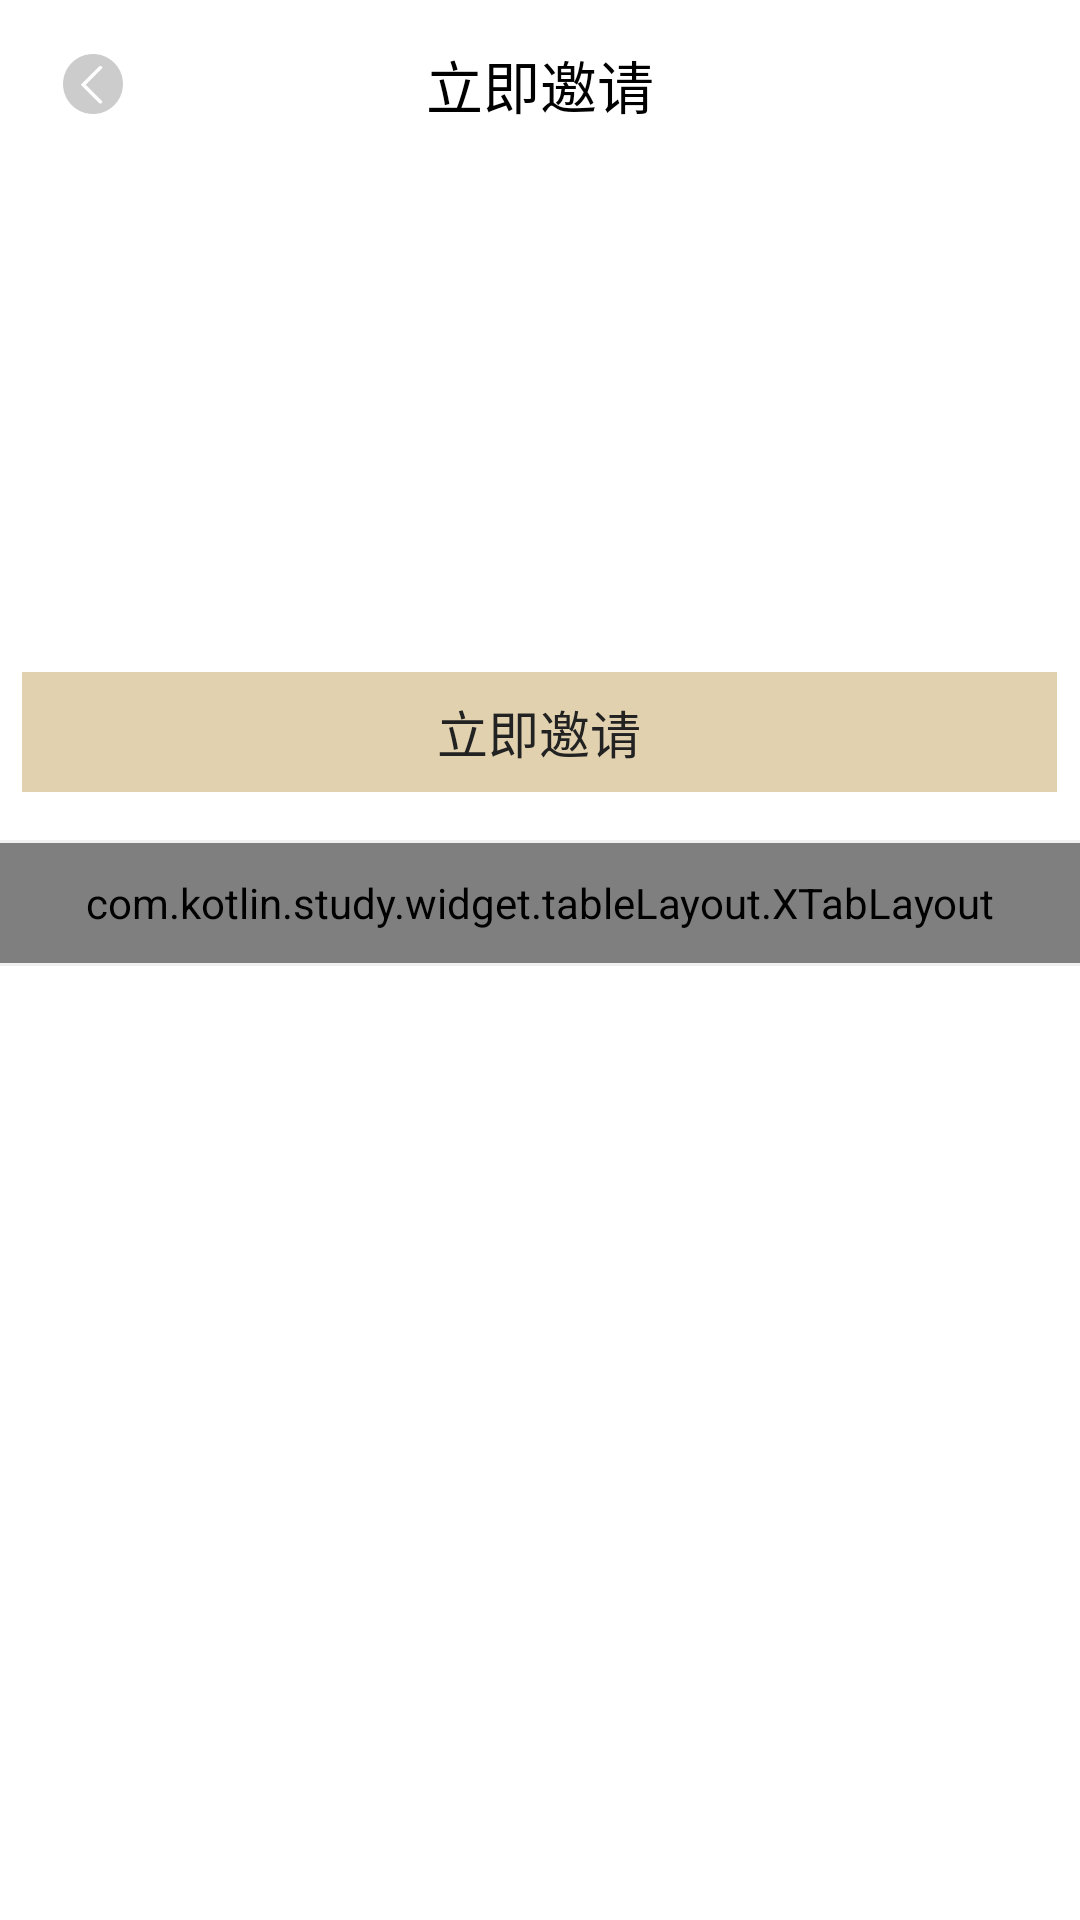

Icons on this 1080*1920 Android screen, each with its box as bbox=(x1, y1, x2, y2):
back: bbox=(63, 54, 123, 114)
